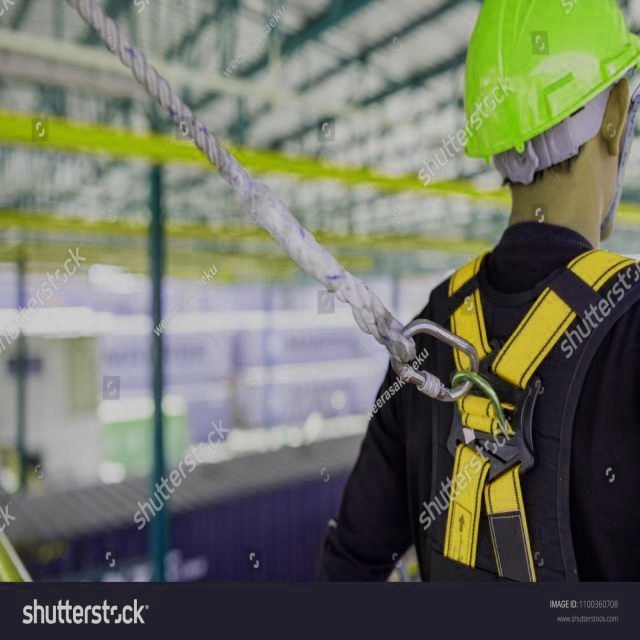safety belt: (403, 252, 620, 581)
